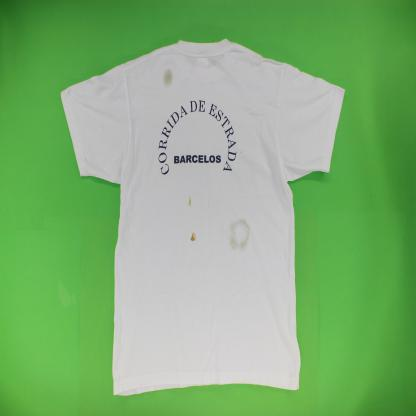stain: (224, 217, 254, 256), (161, 67, 174, 88), (189, 230, 197, 245), (188, 193, 192, 207)
